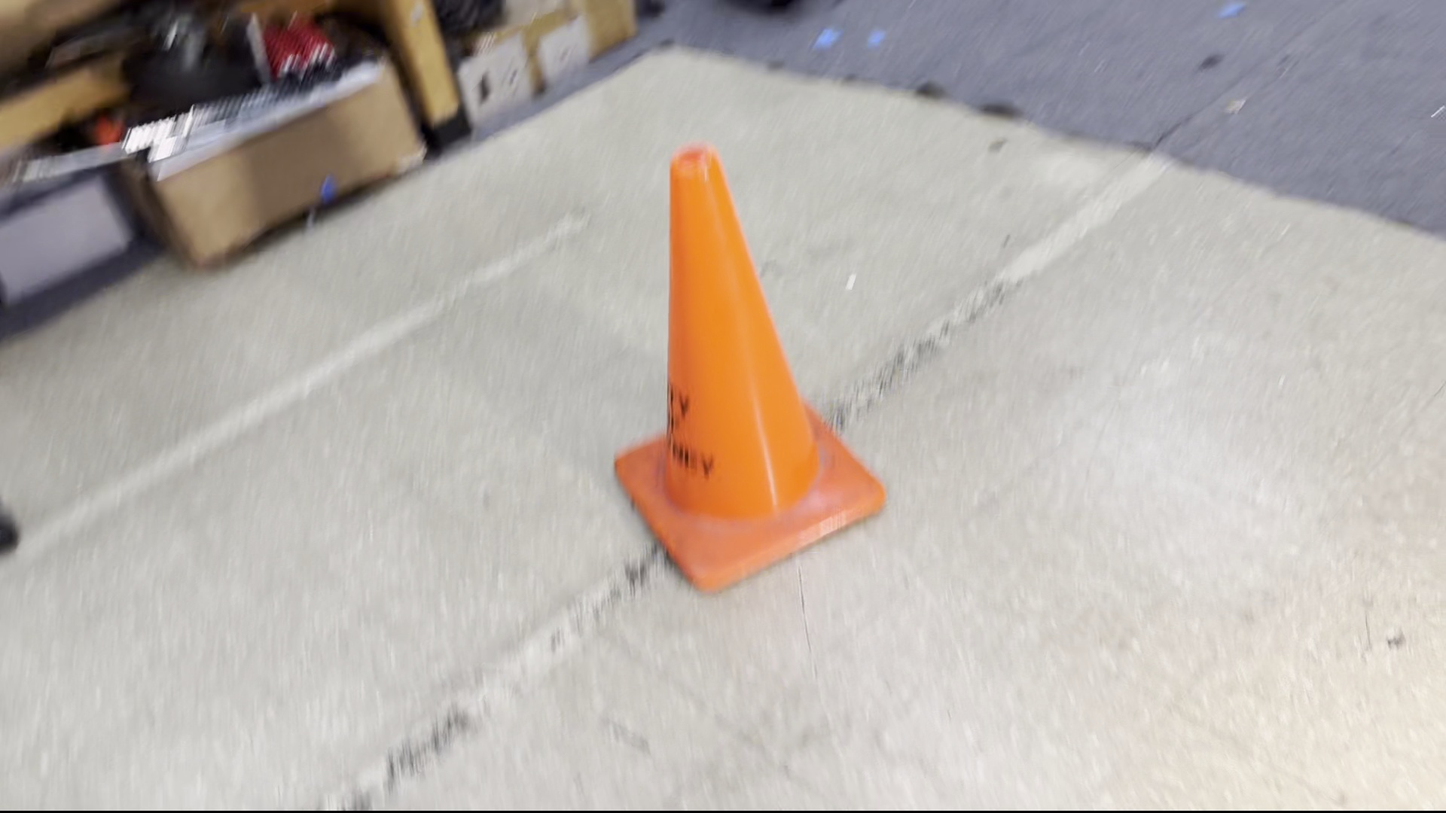traffic_cone: (612, 140, 887, 594)
